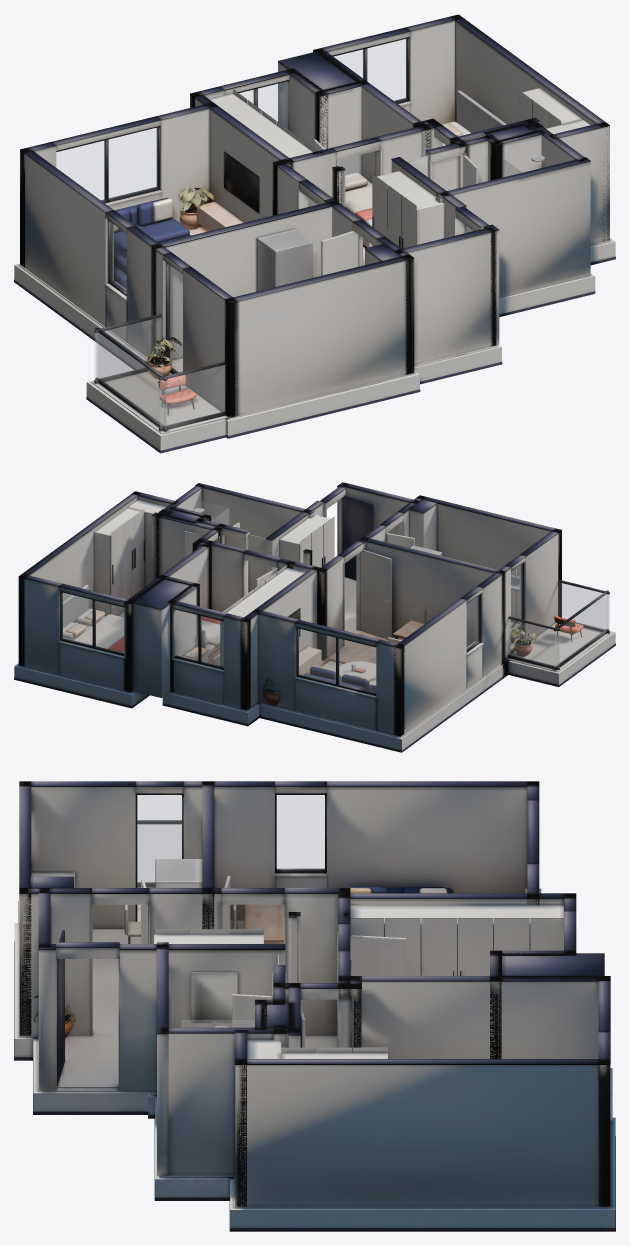
3 views of the same model, one above another, from view 1: azimuth 30°, elevation 25°; view 2: azimuth 150°, elevation 25°; view 3: azimuth 270°, elevation 25° (orthographic). The views are drawn at different scales.
Parts seen in each view (by area): view 1: plan, glass0_m, railg2_m, railg1_m, railg0_m, glass2_m, glass4_m, glass1_m, glass3_m; view 2: plan, glass0_m, glass2_m, glass1_m, railg2_m, railg0_m, railg1_m, glass4_m, glass3_m, sg.001_m; view 3: plan, glass3_m, glass4_m, railg2_m.
Boxes of the visible parts, <box> form: plan: <box>14,14,615,453</box>; glass0_m: <box>56,128,157,200</box>; railg2_m: <box>97,333,166,427</box>; railg1_m: <box>160,365,225,427</box>; railg0_m: <box>95,317,160,379</box>; glass2_m: <box>334,39,406,101</box>; glass4_m: <box>168,264,182,372</box>; glass1_m: <box>239,81,287,128</box>; glass3_m: <box>110,222,126,291</box>; plan: <box>14,482,615,752</box>; glass0_m: <box>298,629,375,693</box>; glass2_m: <box>62,593,123,653</box>; glass1_m: <box>175,610,223,667</box>; railg2_m: <box>554,594,607,667</box>; railg0_m: <box>509,619,559,666</box>; railg1_m: <box>559,582,609,630</box>; glass4_m: <box>511,564,521,649</box>; glass3_m: <box>467,596,478,649</box>; sg.001_m: <box>198,501,228,524</box>; plan: <box>14,781,615,1231</box>; glass3_m: <box>277,795,324,869</box>; glass4_m: <box>137,795,181,921</box>; railg2_m: <box>138,825,181,882</box>.
Bounding box in the file's own units: 11.13 × 2.62 × 8.65.
2 materials, 1 textured.
